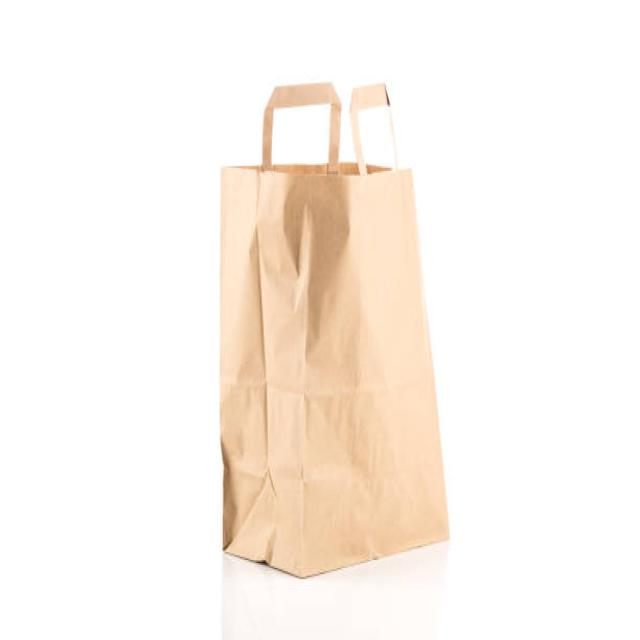electronic: (218, 80, 451, 577)
